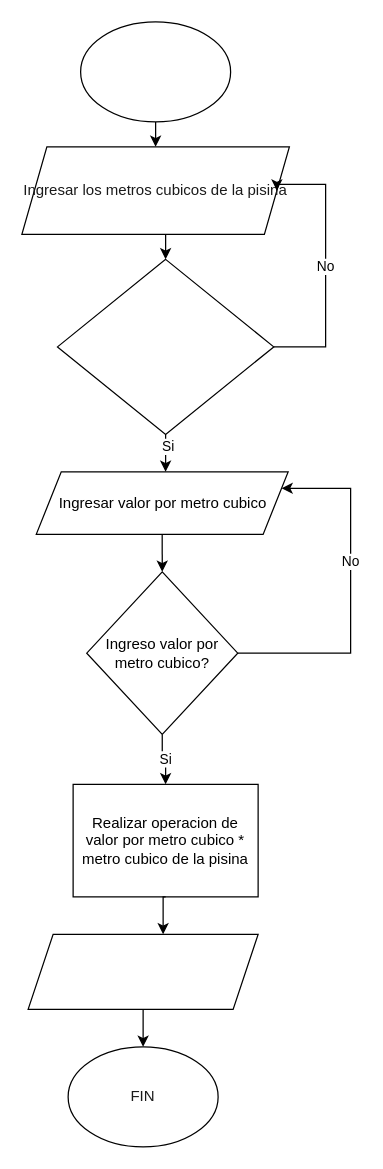
This 383x1169 diagram has some shape labels left out. The shapes that lost their labels are listed below. From the top down, each one's centre as x and y in pixels, then its label:
the point at 155,71: INICIO
the point at 165,346: ingreso los metros cubicos?
the point at 142,971: Mostrar Costo Total
